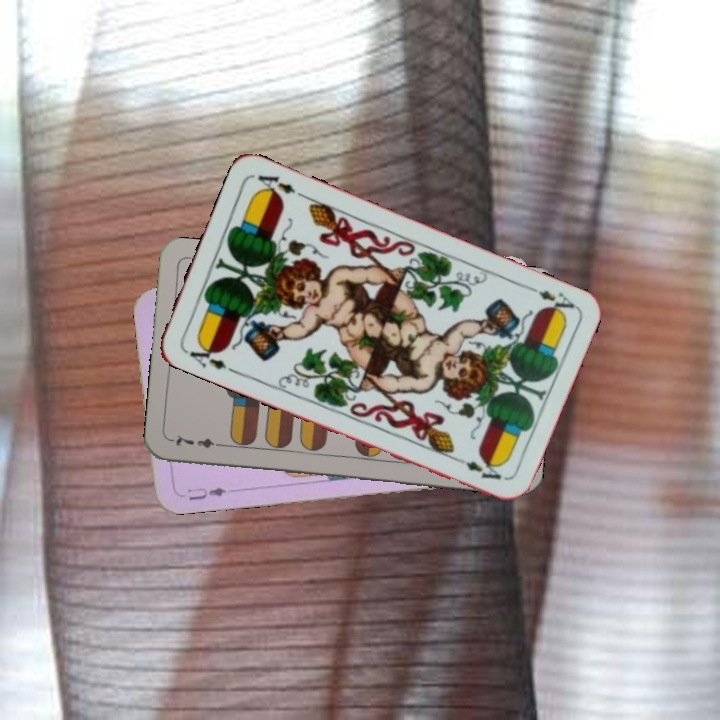E7: (169, 431, 228, 450)
EA: (521, 281, 577, 318), (185, 338, 229, 372)
EU: (183, 483, 229, 503)
